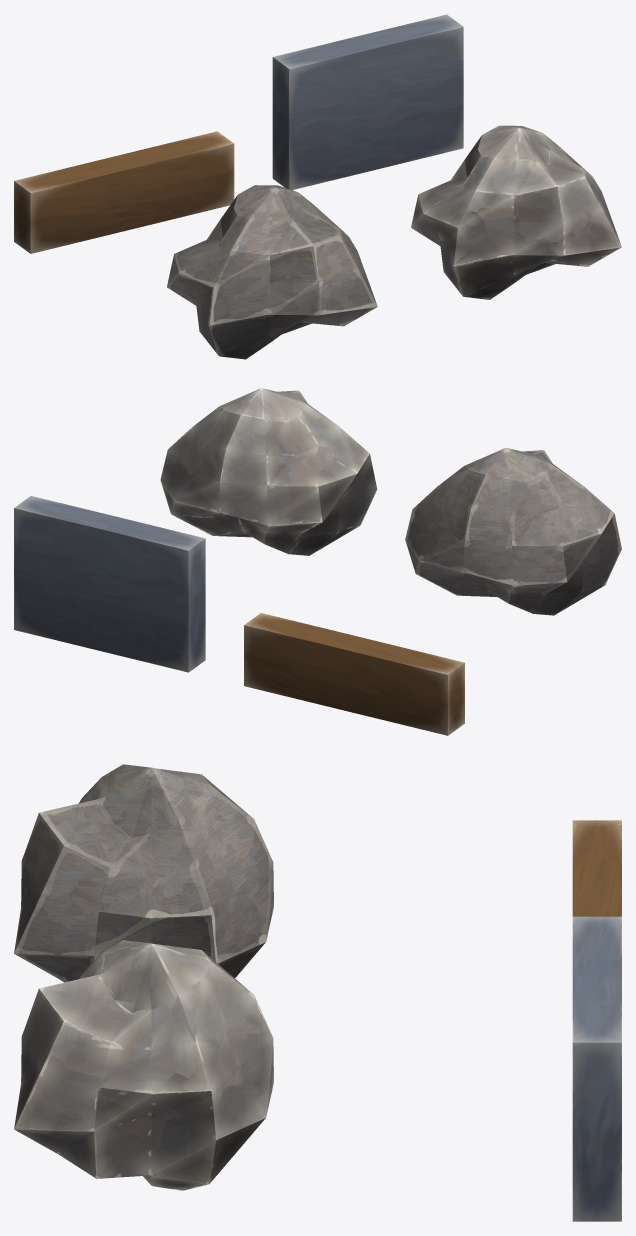
The model's file is BrushRock.glb.
3 renders of one model, top to bottom at view 1: azimuth 30°, elevation 25°; view 2: azimuth 150°, elevation 25°; view 3: azimuth 270°, elevation 25°, orthographic. The views are drawn at different scales.
Parts seen in each view (by area): view 1: Plate, Hand, Current, Plank; view 2: Plate, Hand, Current, Plank; view 3: Hand, Current, Plate, Plank.
Part boxes in pixels (x1,y1,x2,y2): Plate: (272, 14, 463, 190); Hand: (411, 125, 621, 299); Current: (167, 185, 377, 359); Plank: (14, 131, 234, 253); Plate: (14, 496, 205, 672); Hand: (160, 388, 377, 555); Current: (405, 448, 621, 615); Plank: (244, 613, 464, 735); Hand: (14, 940, 273, 1190); Current: (14, 764, 273, 982); Plate: (572, 916, 621, 1221); Plank: (572, 820, 621, 916).
Bounding box in the file's own units: 14.9 × 5.12 × 12.28.
4 materials, 4 textured.
